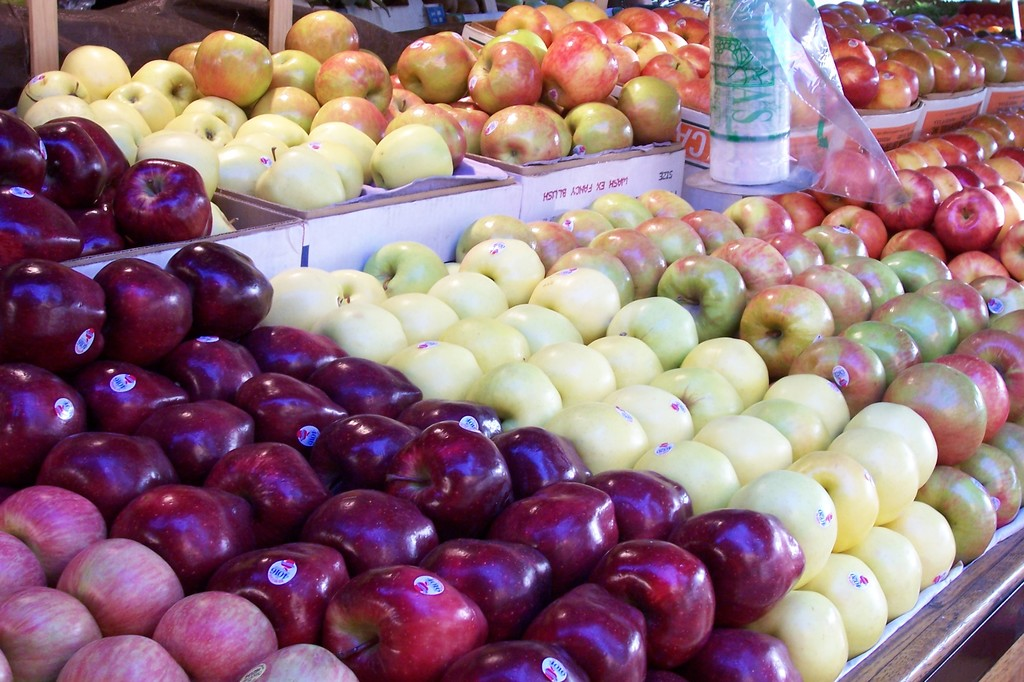Apple: (0, 107, 1023, 681), (0, 0, 1022, 275), (90, 256, 188, 357)
